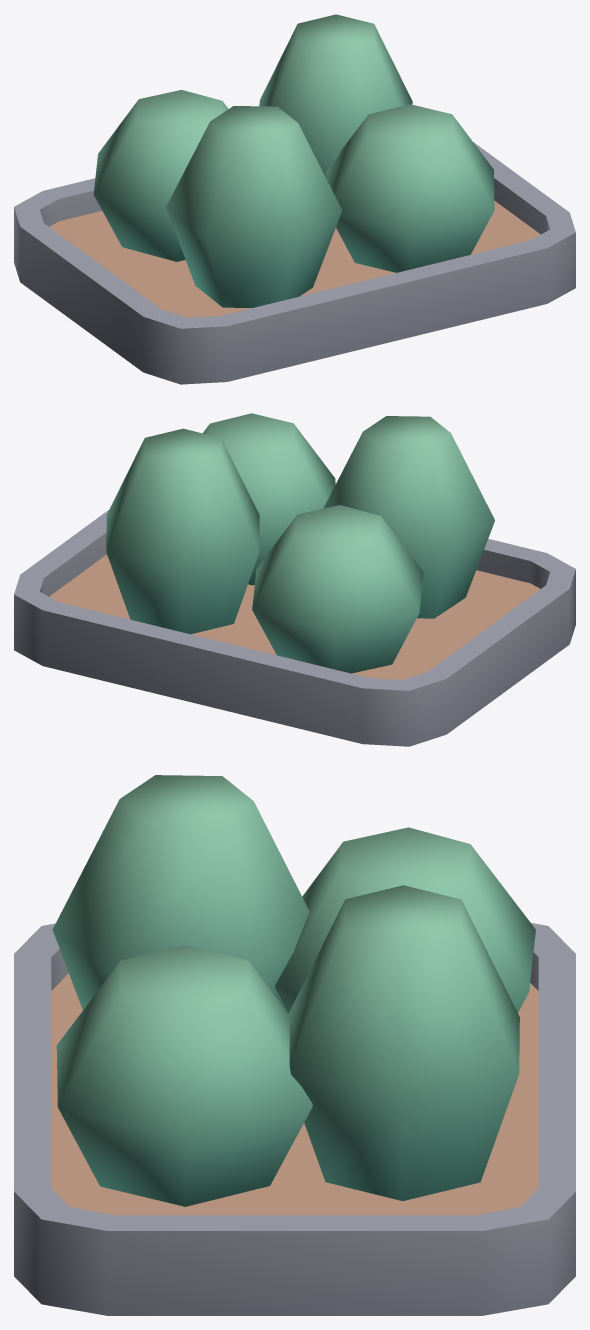
File: planter.glb
The picture shows the model from 3 angles, top to bottom: view 1: azimuth 30°, elevation 25°; view 2: azimuth 150°, elevation 25°; view 3: azimuth 270°, elevation 25°; orthographic projection. The views are drawn at different scales.
Visible parts, largest first — view 1: planter; view 2: planter; view 3: planter.
Boxes of the visible parts, x1,y1,x2,y2 form: planter: (14,14,575,384); planter: (14,413,575,746); planter: (14,775,575,1315).
Size of the model in its own units: 0.4 by 0.1771 by 0.3.
